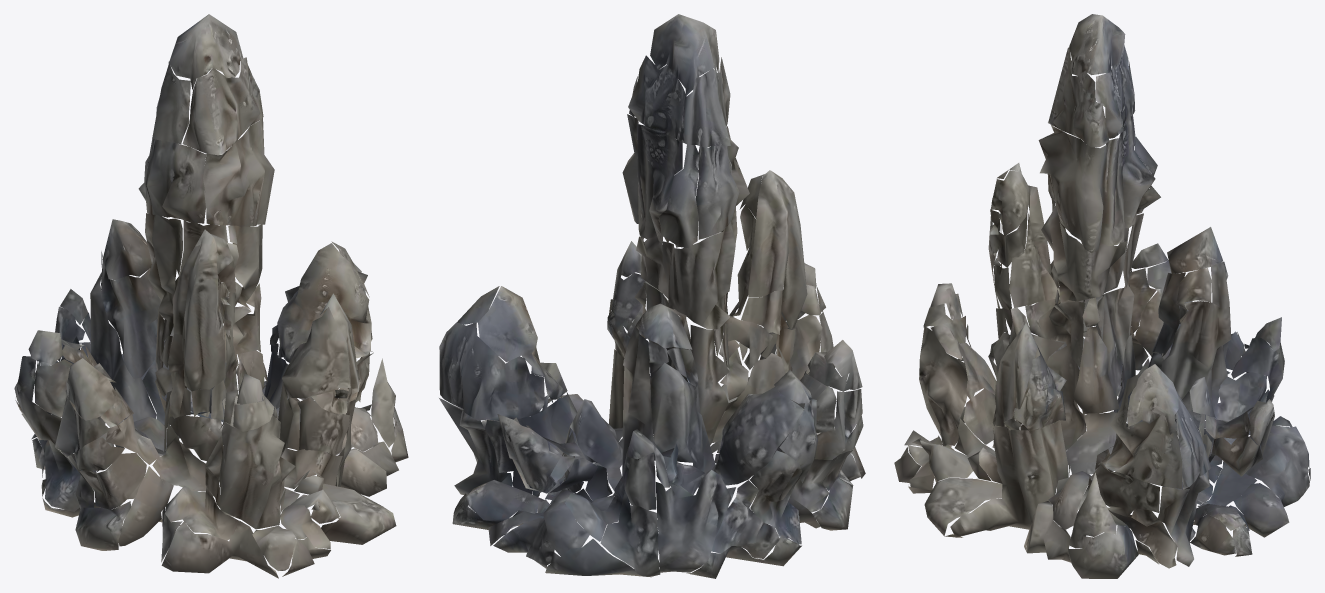
The model's file is env_stalagmite_cluster_LOD2.glb.
The picture shows the model from 3 angles, left to right: view 1: azimuth 30°, elevation 25°; view 2: azimuth 150°, elevation 25°; view 3: azimuth 270°, elevation 25°; orthographic projection. The views are drawn at different scales.
Visible parts, largest first — view 1: tripo_node_b958e5c8-be07-4208-9d87-b0ac715ece63; view 2: tripo_node_b958e5c8-be07-4208-9d87-b0ac715ece63; view 3: tripo_node_b958e5c8-be07-4208-9d87-b0ac715ece63.
Boxes of the visible parts, x1,y1,x2,y2 form: tripo_node_b958e5c8-be07-4208-9d87-b0ac715ece63: (14, 14, 408, 578); tripo_node_b958e5c8-be07-4208-9d87-b0ac715ece63: (439, 14, 865, 578); tripo_node_b958e5c8-be07-4208-9d87-b0ac715ece63: (894, 14, 1310, 578).
Size of the model in its own units: 0.769 by 1.01 by 0.789.
Materials: 1 (1 with a texture image).
